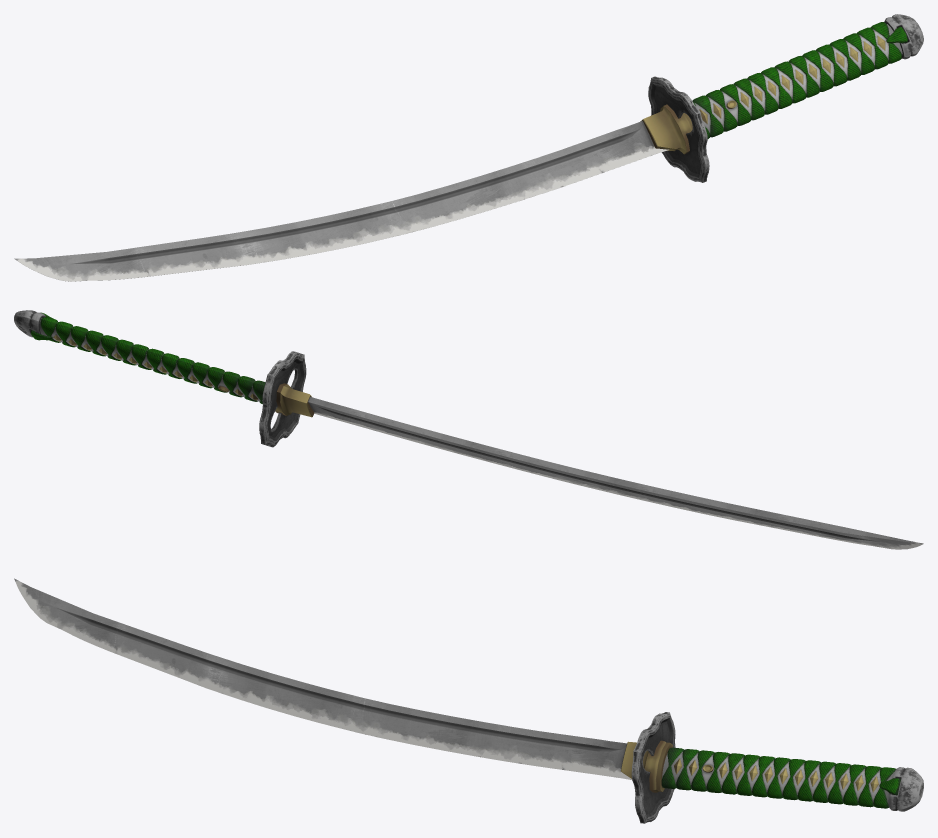
File: katana_samurai_game_ready_asset.glb
The picture shows the model from 3 angles, top to bottom: view 1: azimuth 30°, elevation 25°; view 2: azimuth 150°, elevation 25°; view 3: azimuth 330°, elevation 25°; orthographic projection.
Visible parts, largest first — view 1: Katana; view 2: Katana; view 3: Katana.
Boxes of the visible parts, box(x1,y1,x2,y2) form: Katana: box(14, 14, 923, 281); Katana: box(14, 310, 923, 549); Katana: box(14, 578, 923, 823).
Bounding box in the file's own units: 147 × 13.79 × 13.45.
Materials: 1 (1 with a texture image).
